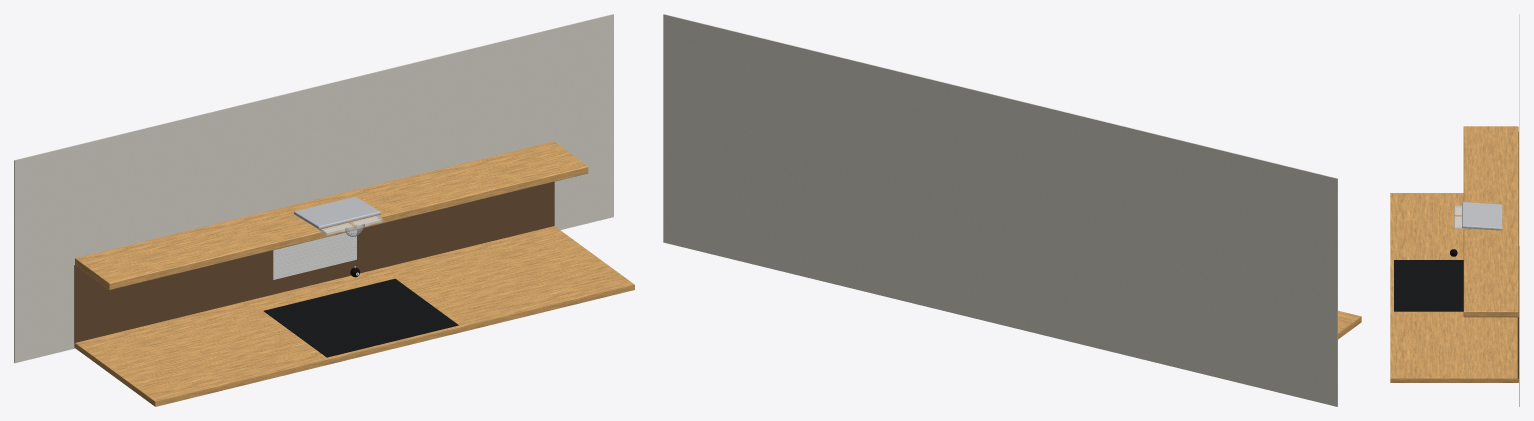
File: pendulum.glb
3 renders of one model, left to right at view 1: azimuth 30°, elevation 25°; view 2: azimuth 150°, elevation 25°; view 3: azimuth 270°, elevation 25°, orthographic. The views are drawn at different scales.
Parts seen in each view (by area): view 1: Wall, Desk, HutchBack, Shelf, Mat, Paper, Laptop; view 2: Wall; view 3: Desk, Shelf, Mat, Laptop, Wall, HutchBack, WristRest.
Part boxes in pixels (x1,y1,x2,y2): Wall: [14, 14, 613, 363]; Desk: [74, 226, 634, 406]; HutchBack: [74, 181, 554, 342]; Shelf: [75, 141, 588, 289]; Mat: [264, 278, 458, 357]; Paper: [273, 230, 356, 279]; Laptop: [294, 196, 380, 229]; Wall: [663, 14, 1337, 406]; Desk: [1390, 193, 1518, 382]; Shelf: [1463, 126, 1518, 317]; Mat: [1394, 260, 1463, 311]; Laptop: [1462, 202, 1502, 230]; Wall: [1519, 14, 1519, 406]; HutchBack: [1517, 132, 1518, 380]; WristRest: [1454, 205, 1471, 229].
Size of the model in its own units: 3 by 0.97 by 0.706.
15 materials, 5 textured.
